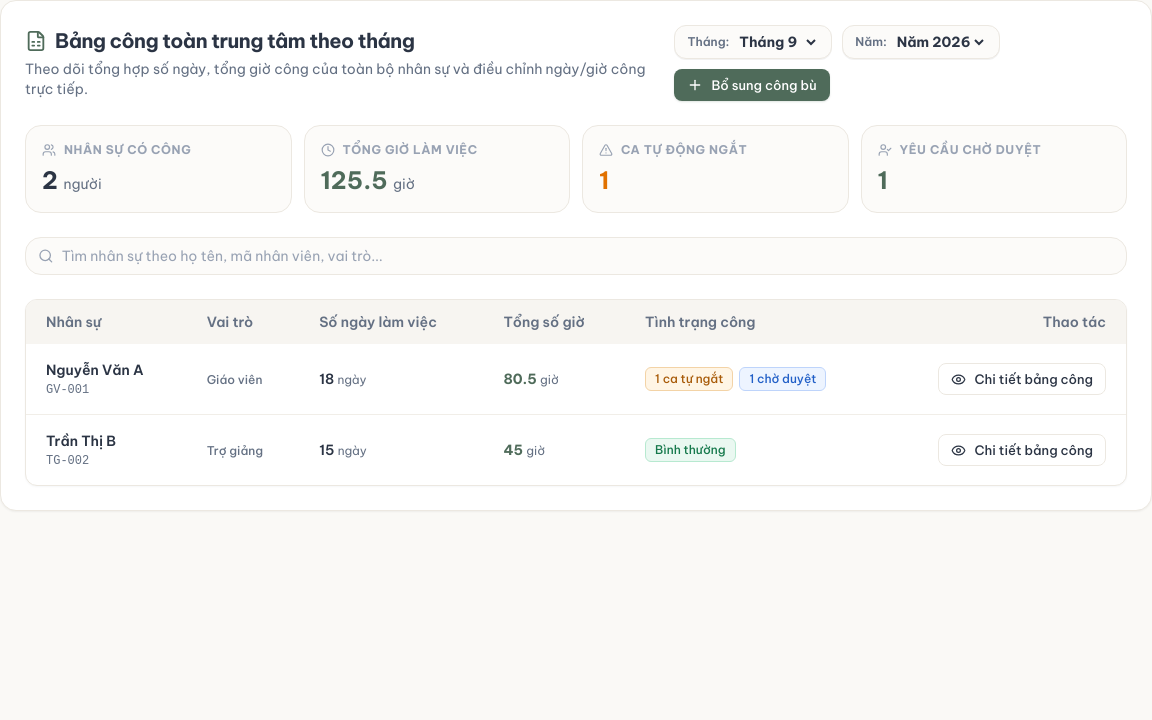
Test: CenterMonthlyTimesheetManagement › opens staff detail dialog on click
The width and height of the screenshot is (1152, 720).
What coordinates should you click on to do the following:
click the button "Chi tiết bảng công" in the row of "Nguyễn Văn A"
I would click on:
 (1022, 379)
Its box is x1=938 y1=363 x2=1106 y2=395.
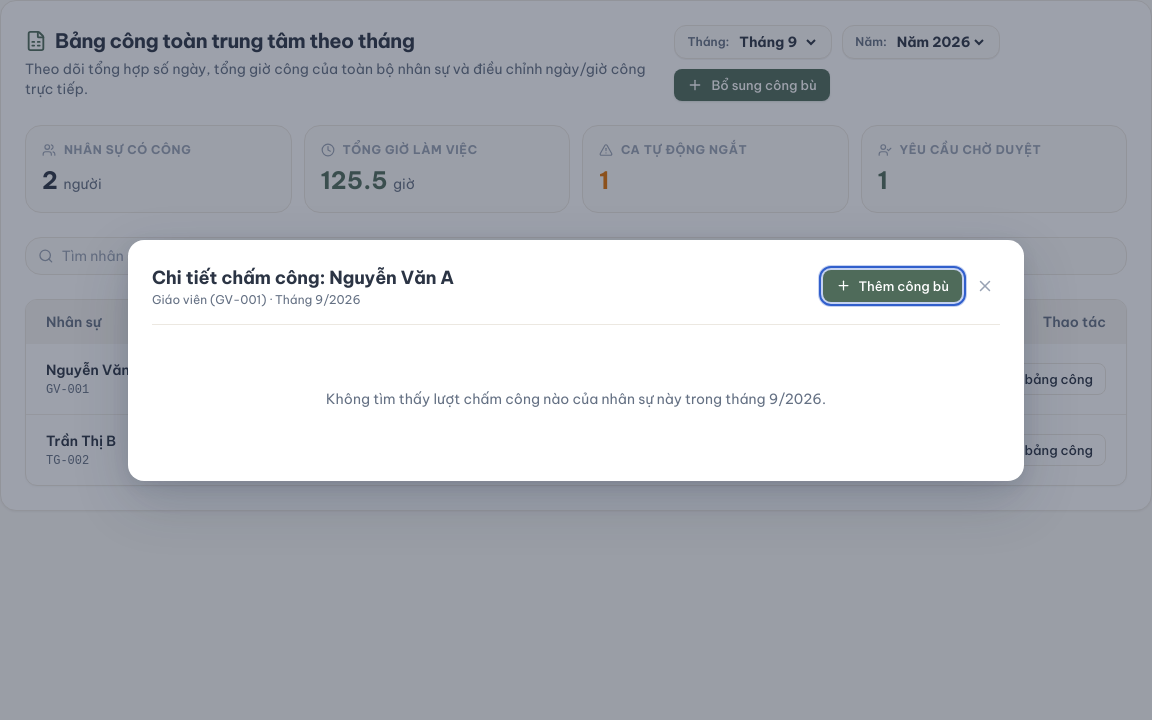
expect the heading "Chi tiết chấm công: Nguyễn Văn A" is shown: met, box x1=152 y1=264 x2=454 y2=292
